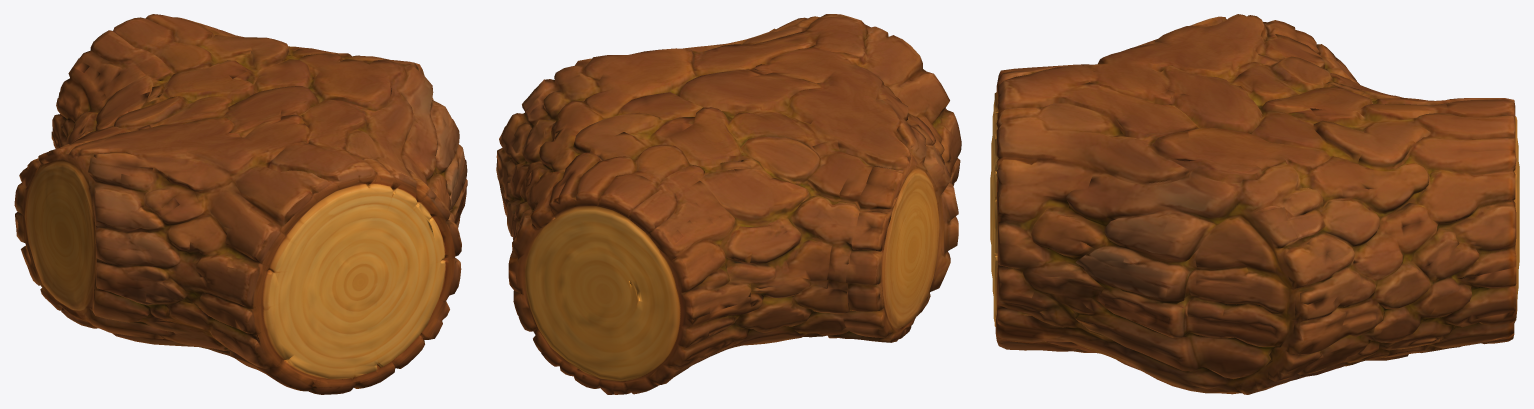
Rendered from log.glb.
3 views of the same model, side by side, from view 1: azimuth 30°, elevation 25°; view 2: azimuth 150°, elevation 25°; view 3: azimuth 270°, elevation 25° (orthographic). The views are drawn at different scales.
Parts seen in each view (by area): view 1: tripo_node_1ebc7f07-512d-427c-8914-e032bc3d89ee; view 2: tripo_node_1ebc7f07-512d-427c-8914-e032bc3d89ee; view 3: tripo_node_1ebc7f07-512d-427c-8914-e032bc3d89ee.
Boxes of the visible parts, x1,y1,x2,y2 form: tripo_node_1ebc7f07-512d-427c-8914-e032bc3d89ee: [14, 14, 467, 394]; tripo_node_1ebc7f07-512d-427c-8914-e032bc3d89ee: [496, 14, 961, 394]; tripo_node_1ebc7f07-512d-427c-8914-e032bc3d89ee: [990, 14, 1519, 394].
Size of the model in its own units: 0.9429 by 0.5183 by 0.9773.
Materials: 1 (1 with a texture image).
